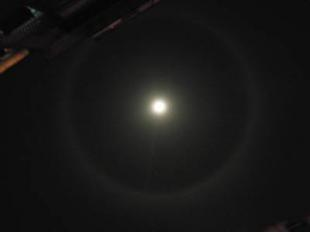moon: (150, 97, 166, 115)
